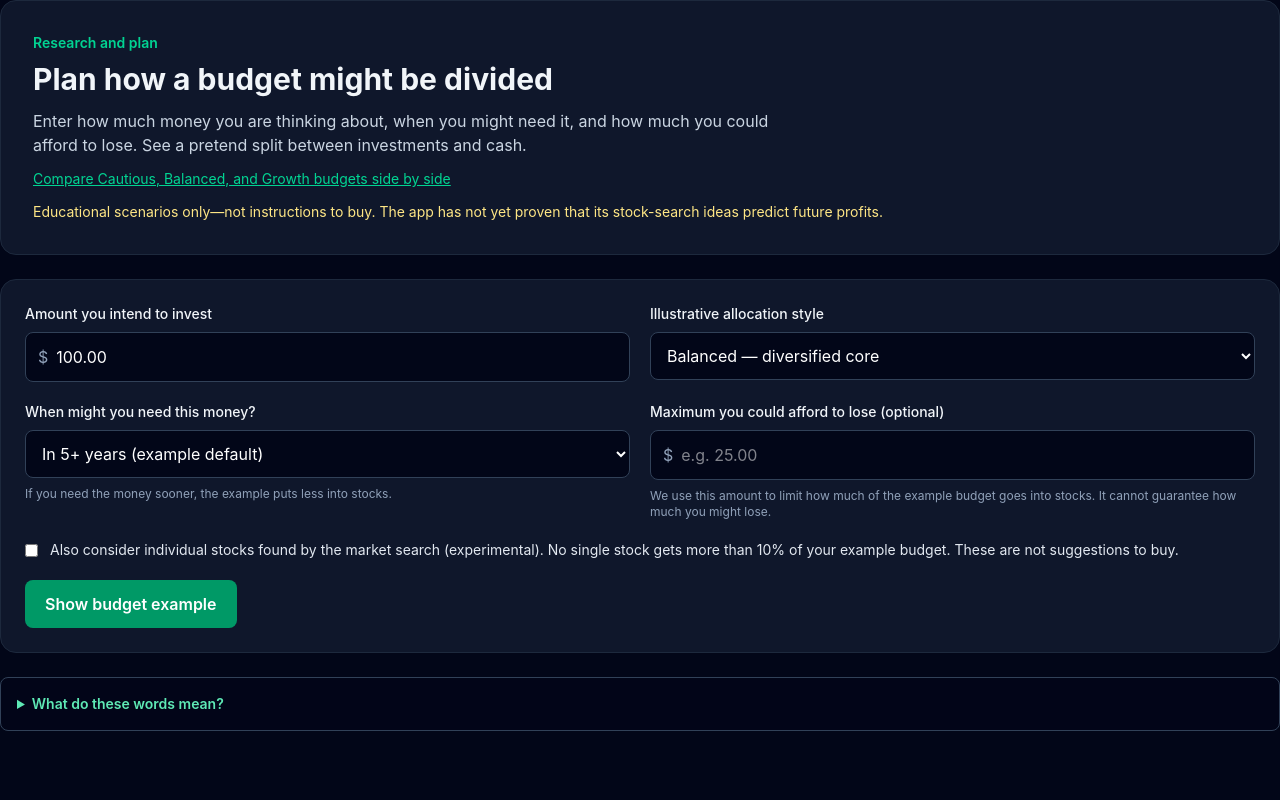
BudgetPlannerPage › explains why experimental screening was not applied instead of inventing candidates
Click the checkbox: [32, 550] box [25,544,38,557]
(page scrolled)
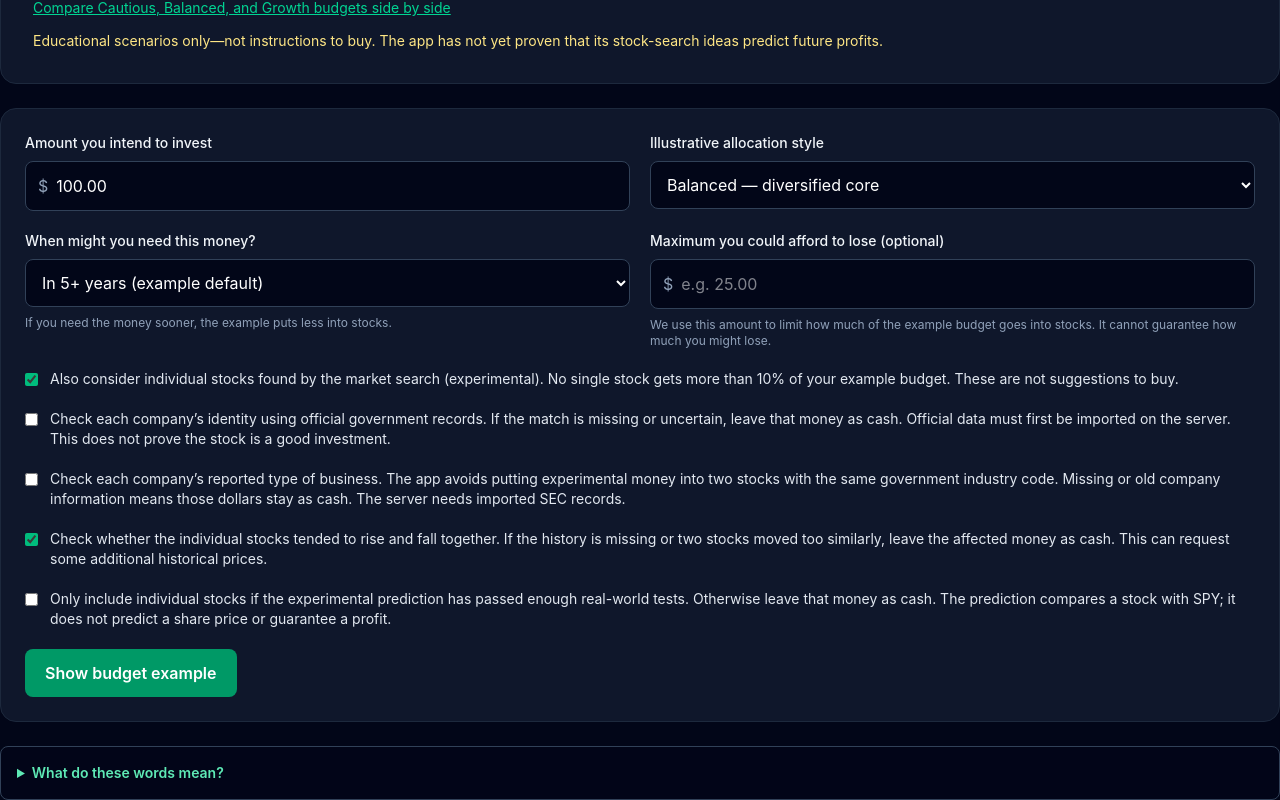
Click the button "Show budget example": [131, 673] box [25,649,236,697]
(page scrolled)
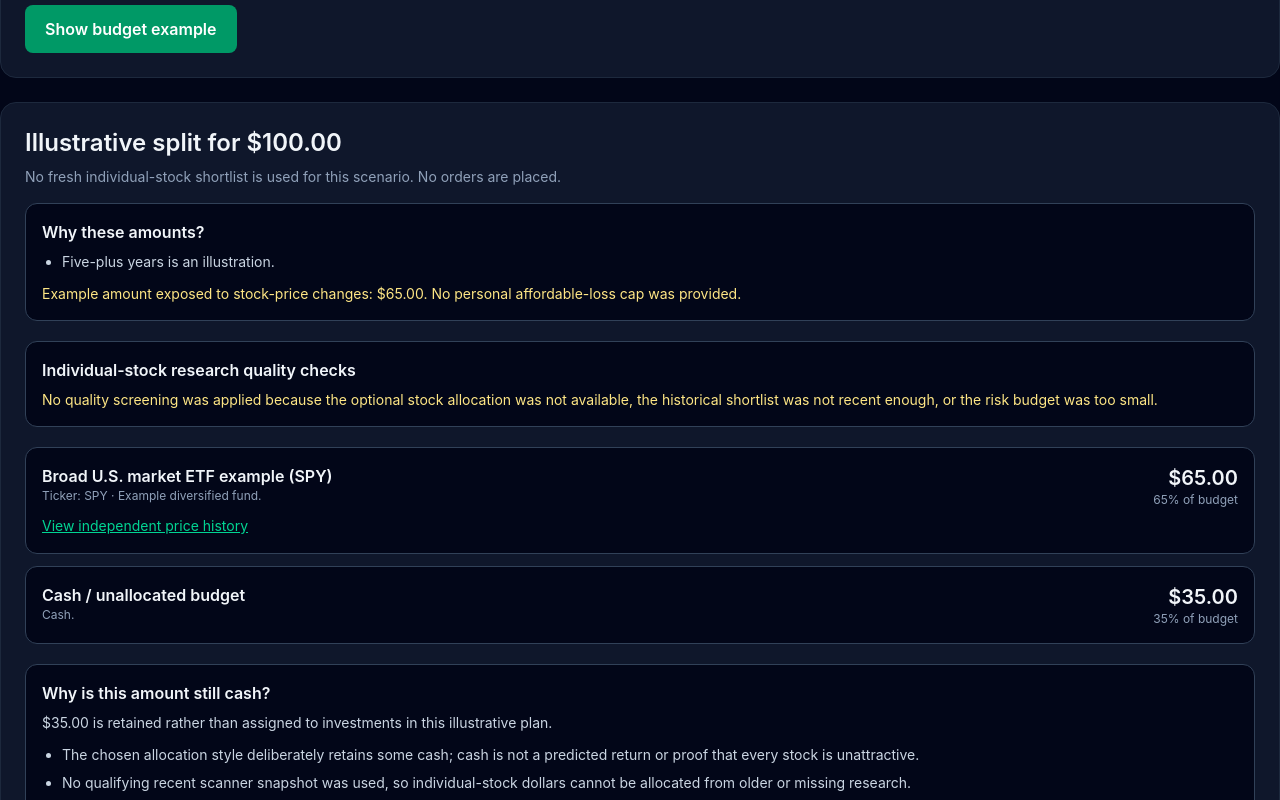
Now the text "No quality screening was applied" is shown, box [42,391,1158,408]
